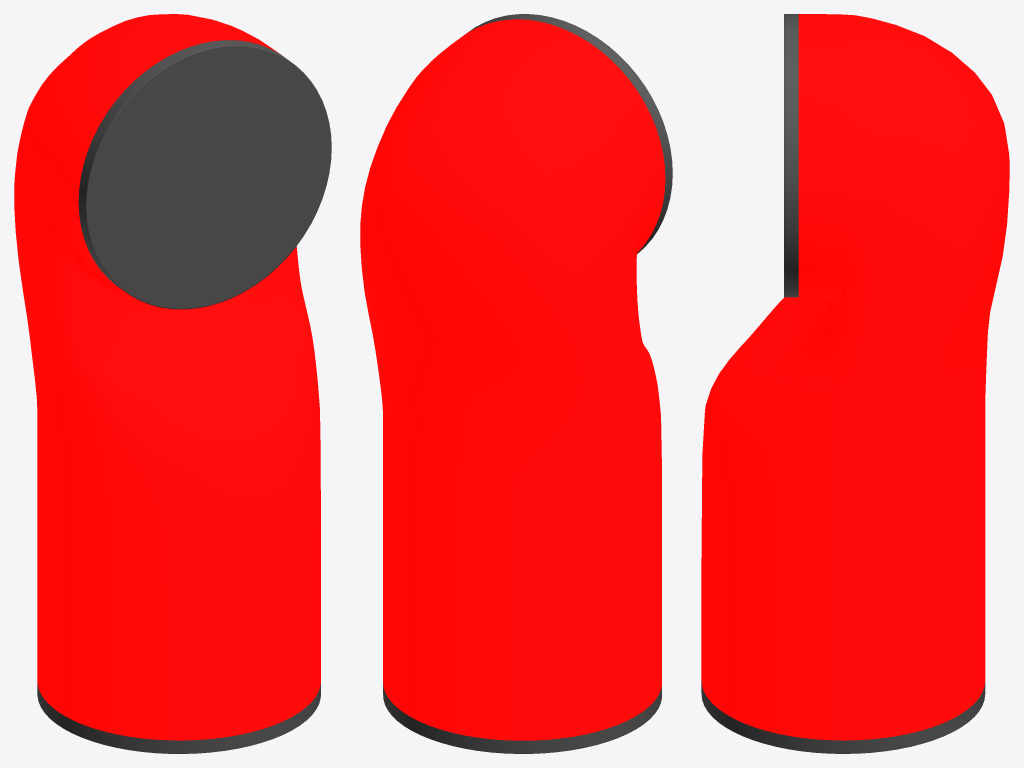
3 renders of one model, left to right at view 1: azimuth 30°, elevation 25°; view 2: azimuth 150°, elevation 25°; view 3: azimuth 270°, elevation 25°, orthographic.
Visible parts, largest first — view 1: Link03; view 2: Link03; view 3: Link03.
Boxes of the visible parts, bbox=[...] form: Link03: bbox=[14, 14, 331, 753]; Link03: bbox=[360, 14, 672, 753]; Link03: bbox=[701, 14, 1009, 753].
Bounding box in the file's own units: 0.0956 × 0.1037 × 0.2478.
